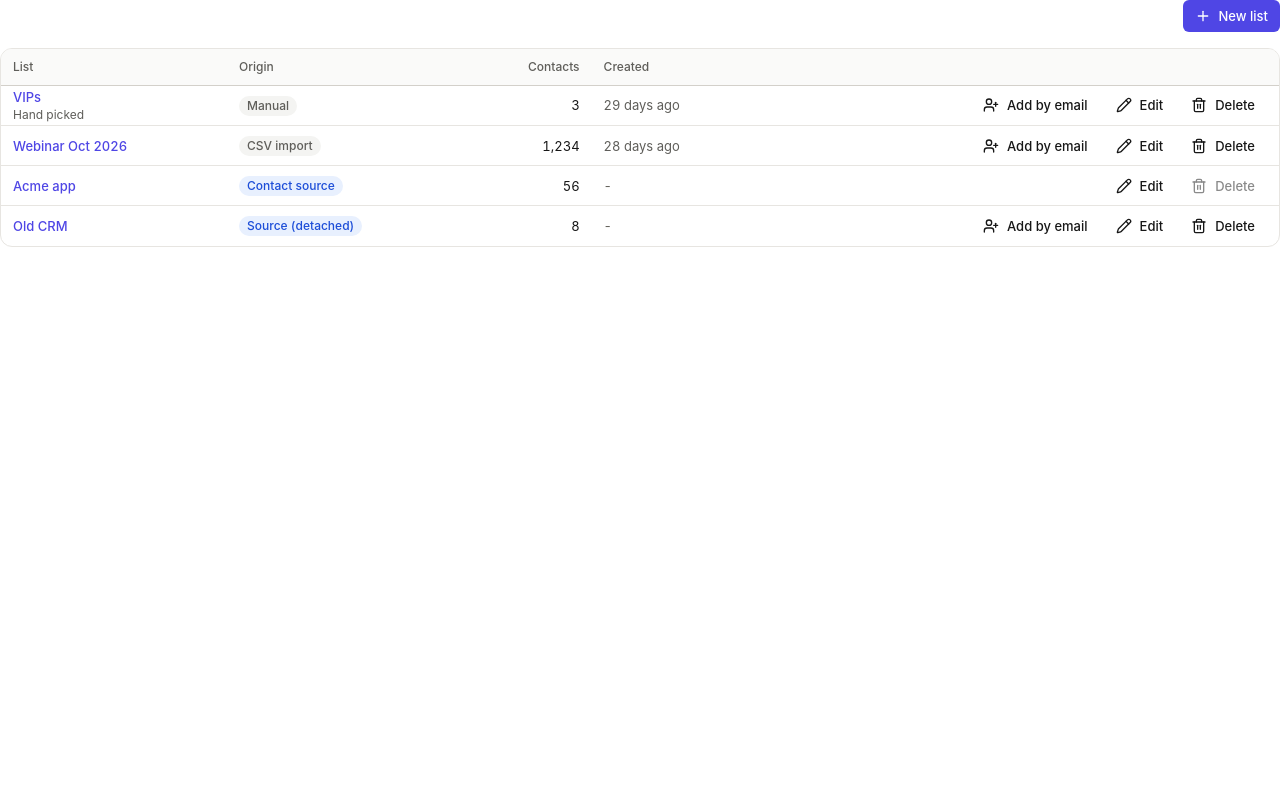
ListsTab table › Edit is prefilled and posts the id; a name error shows under the field
Click the button with aria-label "Edit VIPs" at (1139, 105), box [1104, 89, 1175, 121]
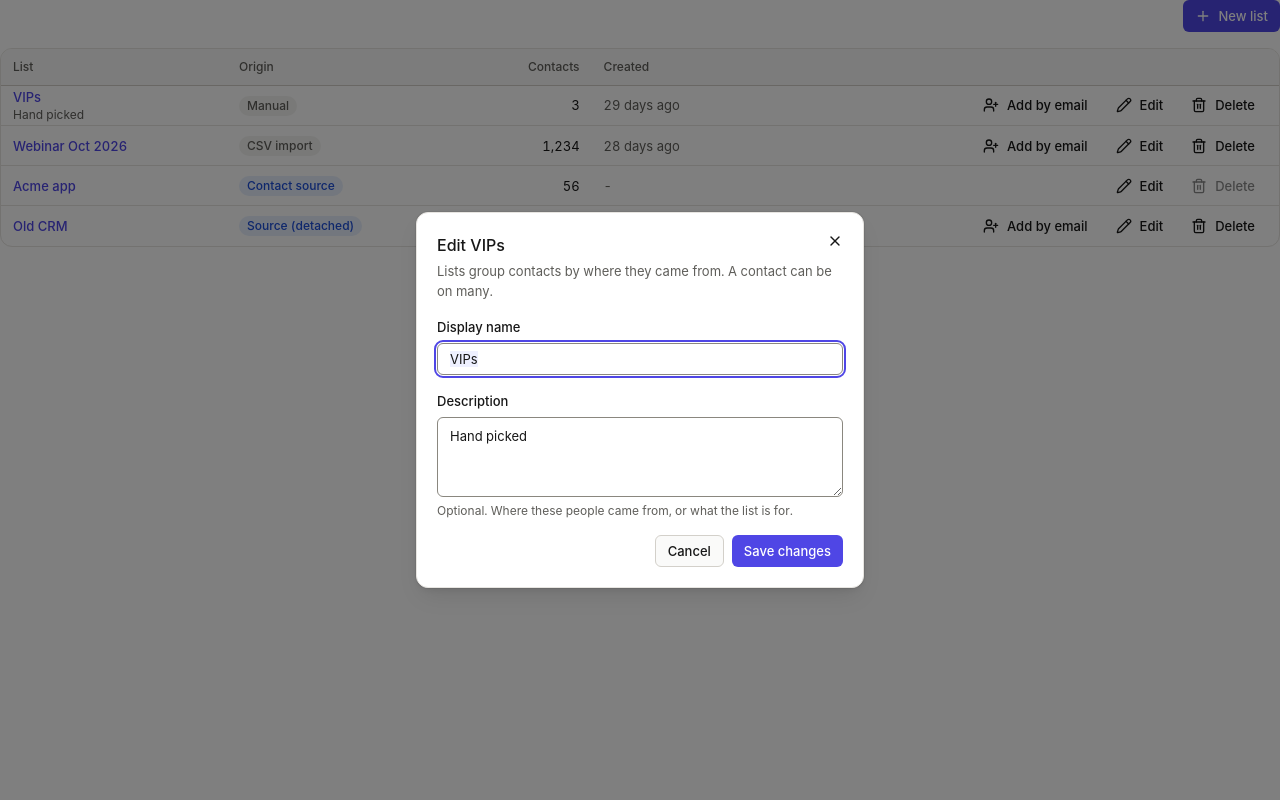
Click the button "Save changes" at (787, 551), box [732, 535, 843, 567]
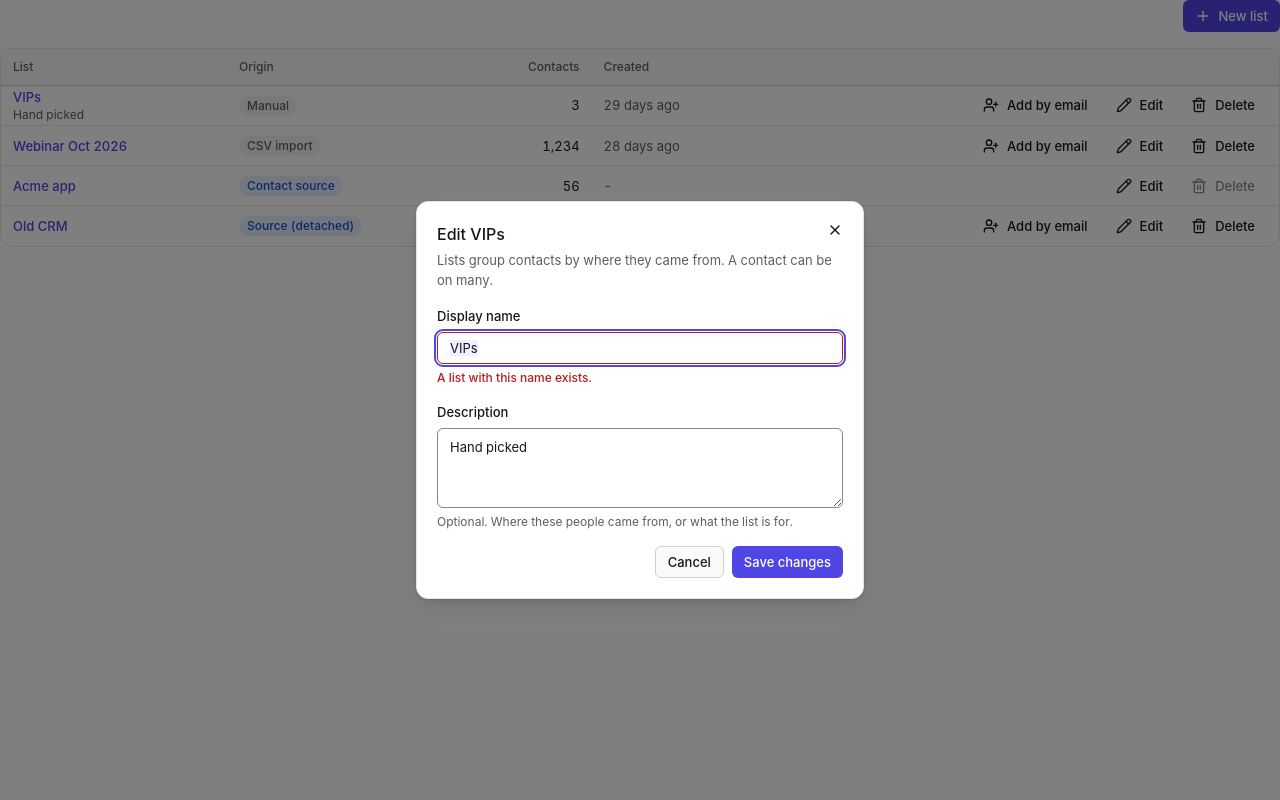
Check: the text "A list with this name exists." is shown, box [437, 370, 592, 385]
